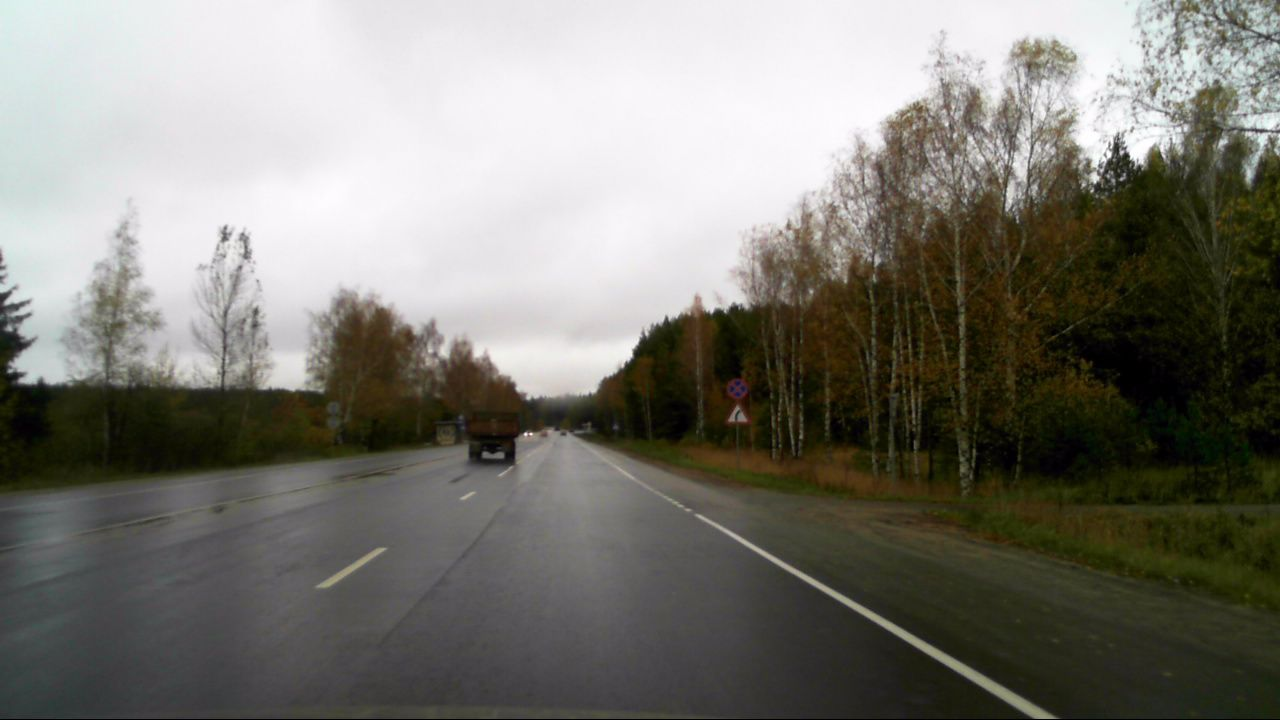No Parking: (723, 376, 750, 401)
